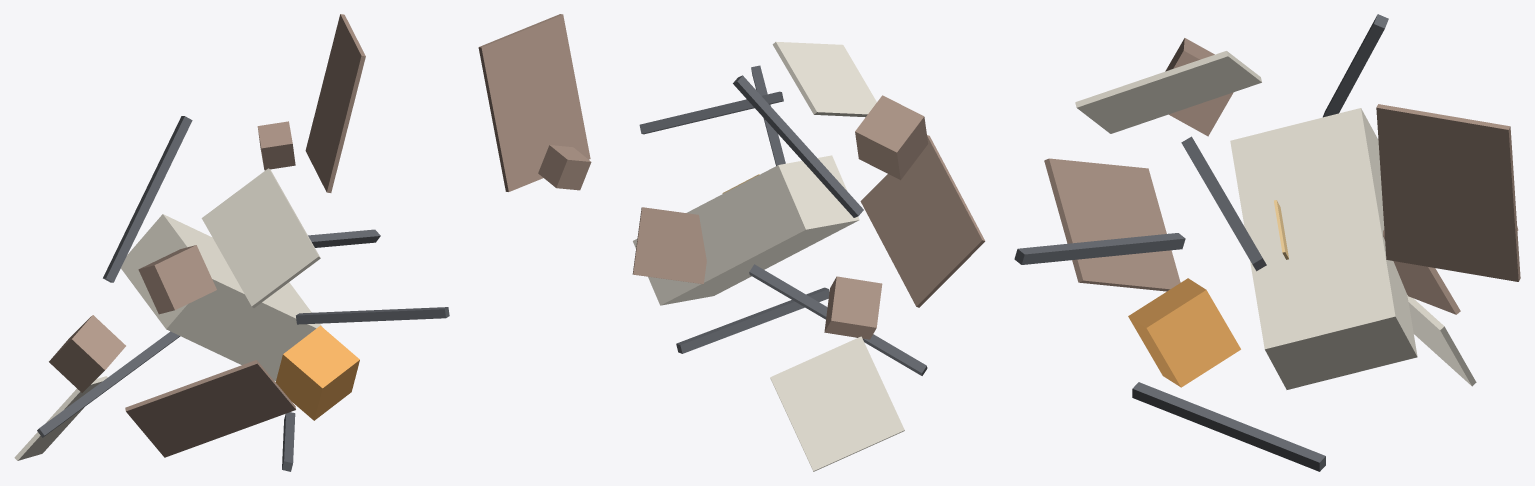
Rendered from Debris.fbx.
The picture shows the model from 3 angles, left to right: view 1: azimuth 30°, elevation 25°; view 2: azimuth 150°, elevation 25°; view 3: azimuth 270°, elevation 25°; orthographic projection. The views are drawn at different scales.
Parts seen in each view (by area): view 1: Debris; view 2: Debris; view 3: Debris.
Part boxes in pixels (<box>): Debris: <box>14,14,449,471</box>; Debris: <box>478,14,985,471</box>; Debris: <box>1014,14,1520,471</box>.
Size of the model in its own units: 7.43 by 6.73 by 6.68.
